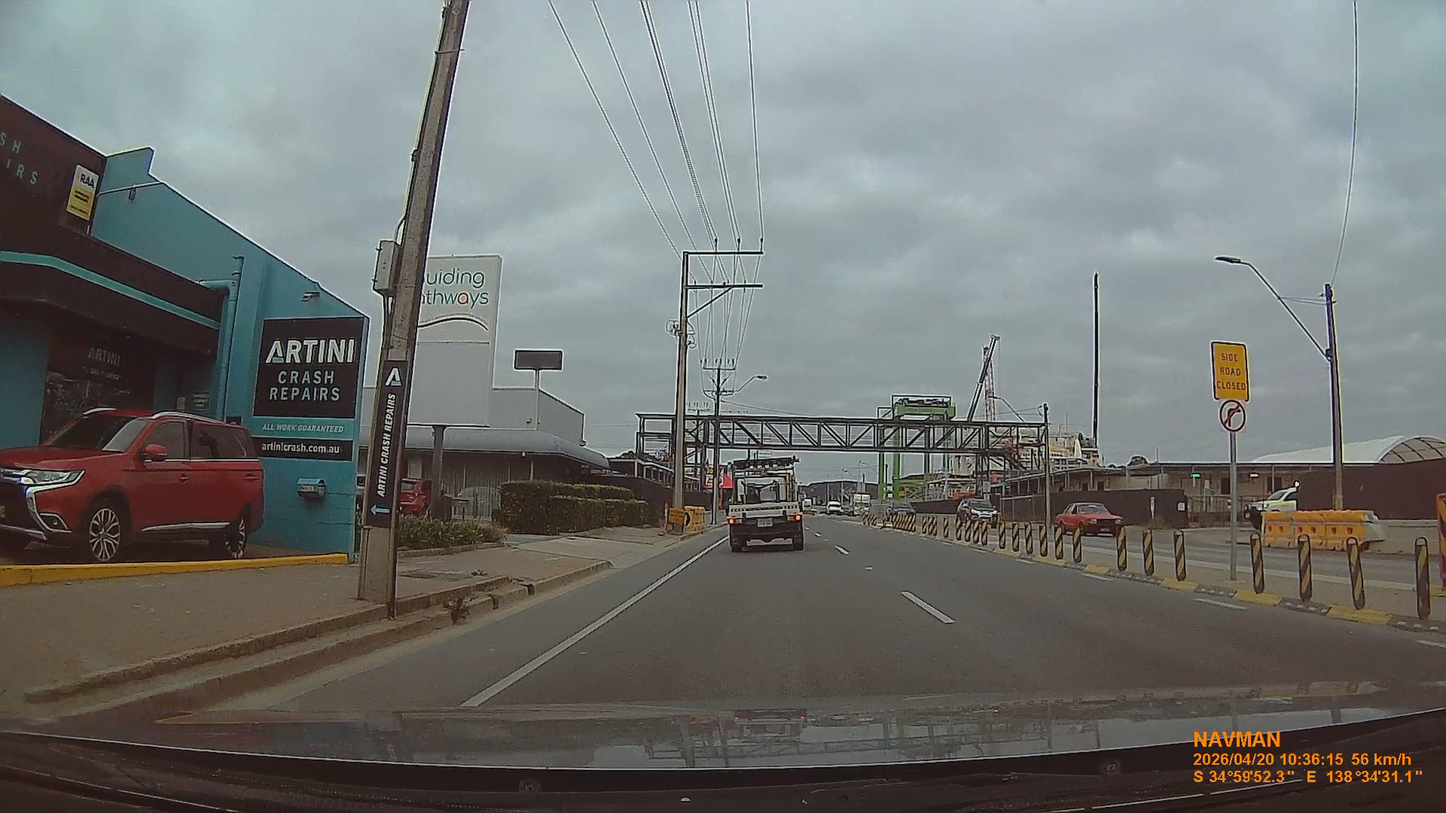fences: (1343, 458, 1445, 519), (1069, 489, 1189, 528), (1184, 495, 1231, 526), (1237, 495, 1269, 526)
road barriers: (1263, 511, 1384, 550)
